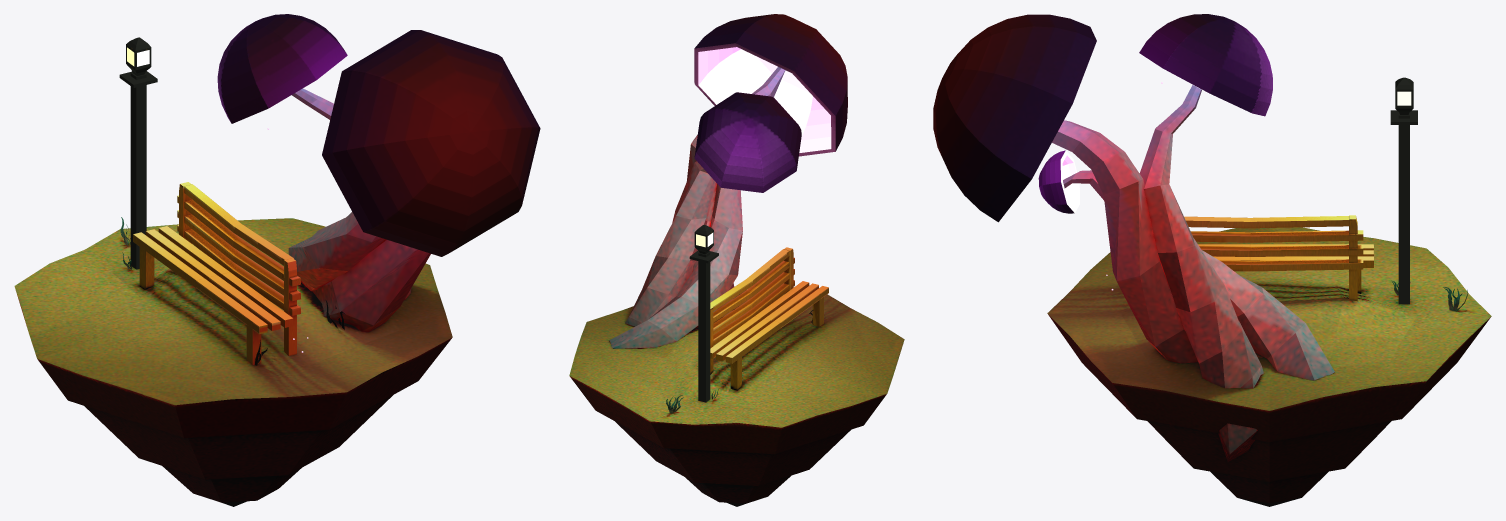
File: ilha de espera02.gltf
3 views of the same model, side by side, from view 1: azimuth 30°, elevation 25°; view 2: azimuth 150°, elevation 25°; view 3: azimuth 270°, elevation 25° (orthographic). The views are drawn at different scales.
Parts seen in each view (by area): view 1: terra, Sphere.001, tronco, Sphere, Cube.002, cadeira, cabo, Cube.001, Cube; view 2: terra, Sphere.001, tronco, Sphere, Cube.002, cadeira, cabo, Cube, Cube.001; view 3: terra, tronco, Sphere.001, Sphere, Cube.002, cabo, Sphere.002, cadeira.
Part boxes in pixels (x1,y1,x2,y2): terra: [14, 218, 452, 506]; Sphere.001: [322, 30, 540, 256]; tronco: [288, 88, 430, 331]; Sphere: [217, 14, 347, 123]; Cube.002: [177, 184, 300, 315]; cadeira: [133, 226, 293, 334]; cabo: [119, 37, 157, 269]; Cube.001: [179, 182, 296, 355]; Cube: [139, 241, 261, 364]; terra: [569, 290, 904, 506]; Sphere.001: [694, 14, 847, 156]; tronco: [609, 67, 785, 348]; Sphere: [694, 92, 801, 192]; Cube.002: [710, 249, 794, 345]; cadeira: [710, 281, 828, 363]; cabo: [689, 225, 718, 402]; Cube: [730, 294, 823, 390]; Cube.001: [710, 247, 793, 374]; terra: [1047, 227, 1491, 506]; tronco: [1052, 85, 1334, 461]; Sphere.001: [933, 14, 1096, 222]; Sphere: [1139, 14, 1272, 116]; Cube.002: [1184, 216, 1363, 271]; cabo: [1390, 77, 1417, 304]; Sphere.002: [1038, 150, 1079, 213]; cadeira: [1198, 244, 1373, 267].
Bounding box in the file's own units: 5.94 × 7.68 × 7.46.
10 materials, 7 textured.
